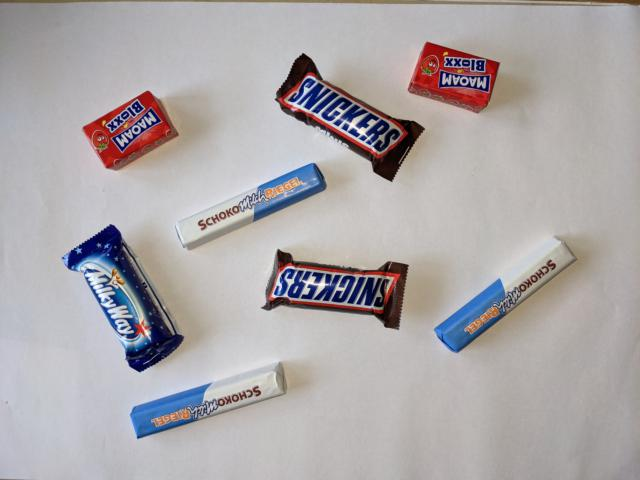MAOAM: (79, 89, 181, 173), (404, 39, 502, 116)
MilkyWay: (58, 221, 186, 373)
Schokoriegel: (430, 232, 581, 356), (170, 160, 330, 253), (129, 358, 291, 442)
Snickers: (274, 51, 427, 183), (259, 247, 410, 332)
